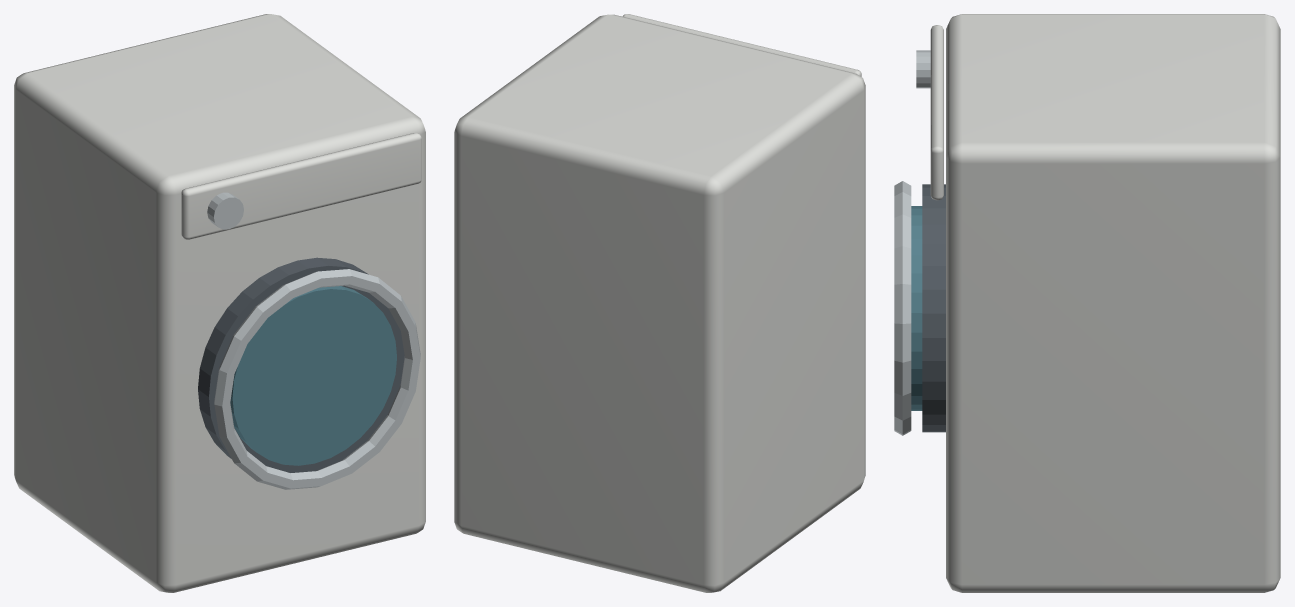
Rendered from washing_machine_white.glb.
The picture shows the model from 3 angles, left to right: view 1: azimuth 30°, elevation 25°; view 2: azimuth 150°, elevation 25°; view 3: azimuth 270°, elevation 25°; orthographic projection. The views are drawn at different scales.
Parts seen in each view (by area): view 1: washer cabinet, porthole, controls, chrome door ring, drum bezel, dial; view 2: washer cabinet, controls; view 3: washer cabinet, drum bezel, chrome door ring, porthole, controls, dial.
Boxes of the visible parts, x1=… form: washer cabinet: x1=14, y1=14, x2=425, y2=592; porthole: x1=230, y1=286, x2=396, y2=465; controls: x1=181, y1=133, x2=421, y2=239; chrome door ring: x1=214, y1=269, x2=420, y2=489; drum bezel: x1=198, y1=257, x2=404, y2=472; dial: x1=207, y1=192, x2=243, y2=229; washer cabinet: x1=454, y1=14, x2=865, y2=592; controls: x1=622, y1=14, x2=861, y2=76; washer cabinet: x1=946, y1=14, x2=1280, y2=592; drum bezel: x1=922, y1=184, x2=945, y2=432; chrome door ring: x1=894, y1=181, x2=911, y2=435; porthole: x1=911, y1=206, x2=922, y2=410; controls: x1=930, y1=25, x2=943, y2=200; dial: x1=916, y1=50, x2=930, y2=88.
Size of the model in its own units: 0.62 by 0.92 by 0.7156.
